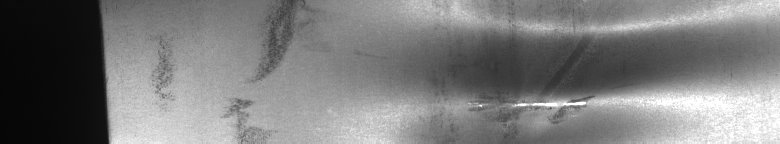ke: (464, 14, 707, 132)
